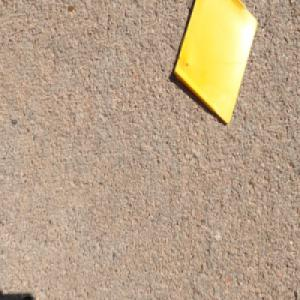PlasticPart: (171, 0, 257, 126)
